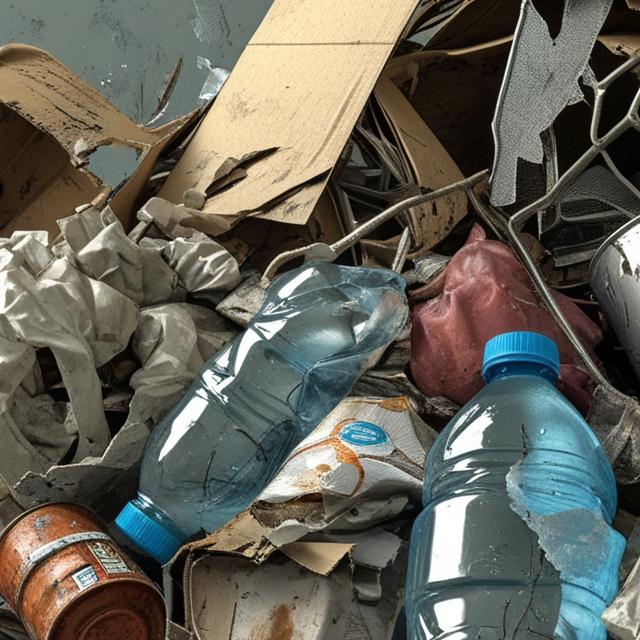metal: (0, 520, 155, 640)
plastic: (425, 338, 581, 640)
